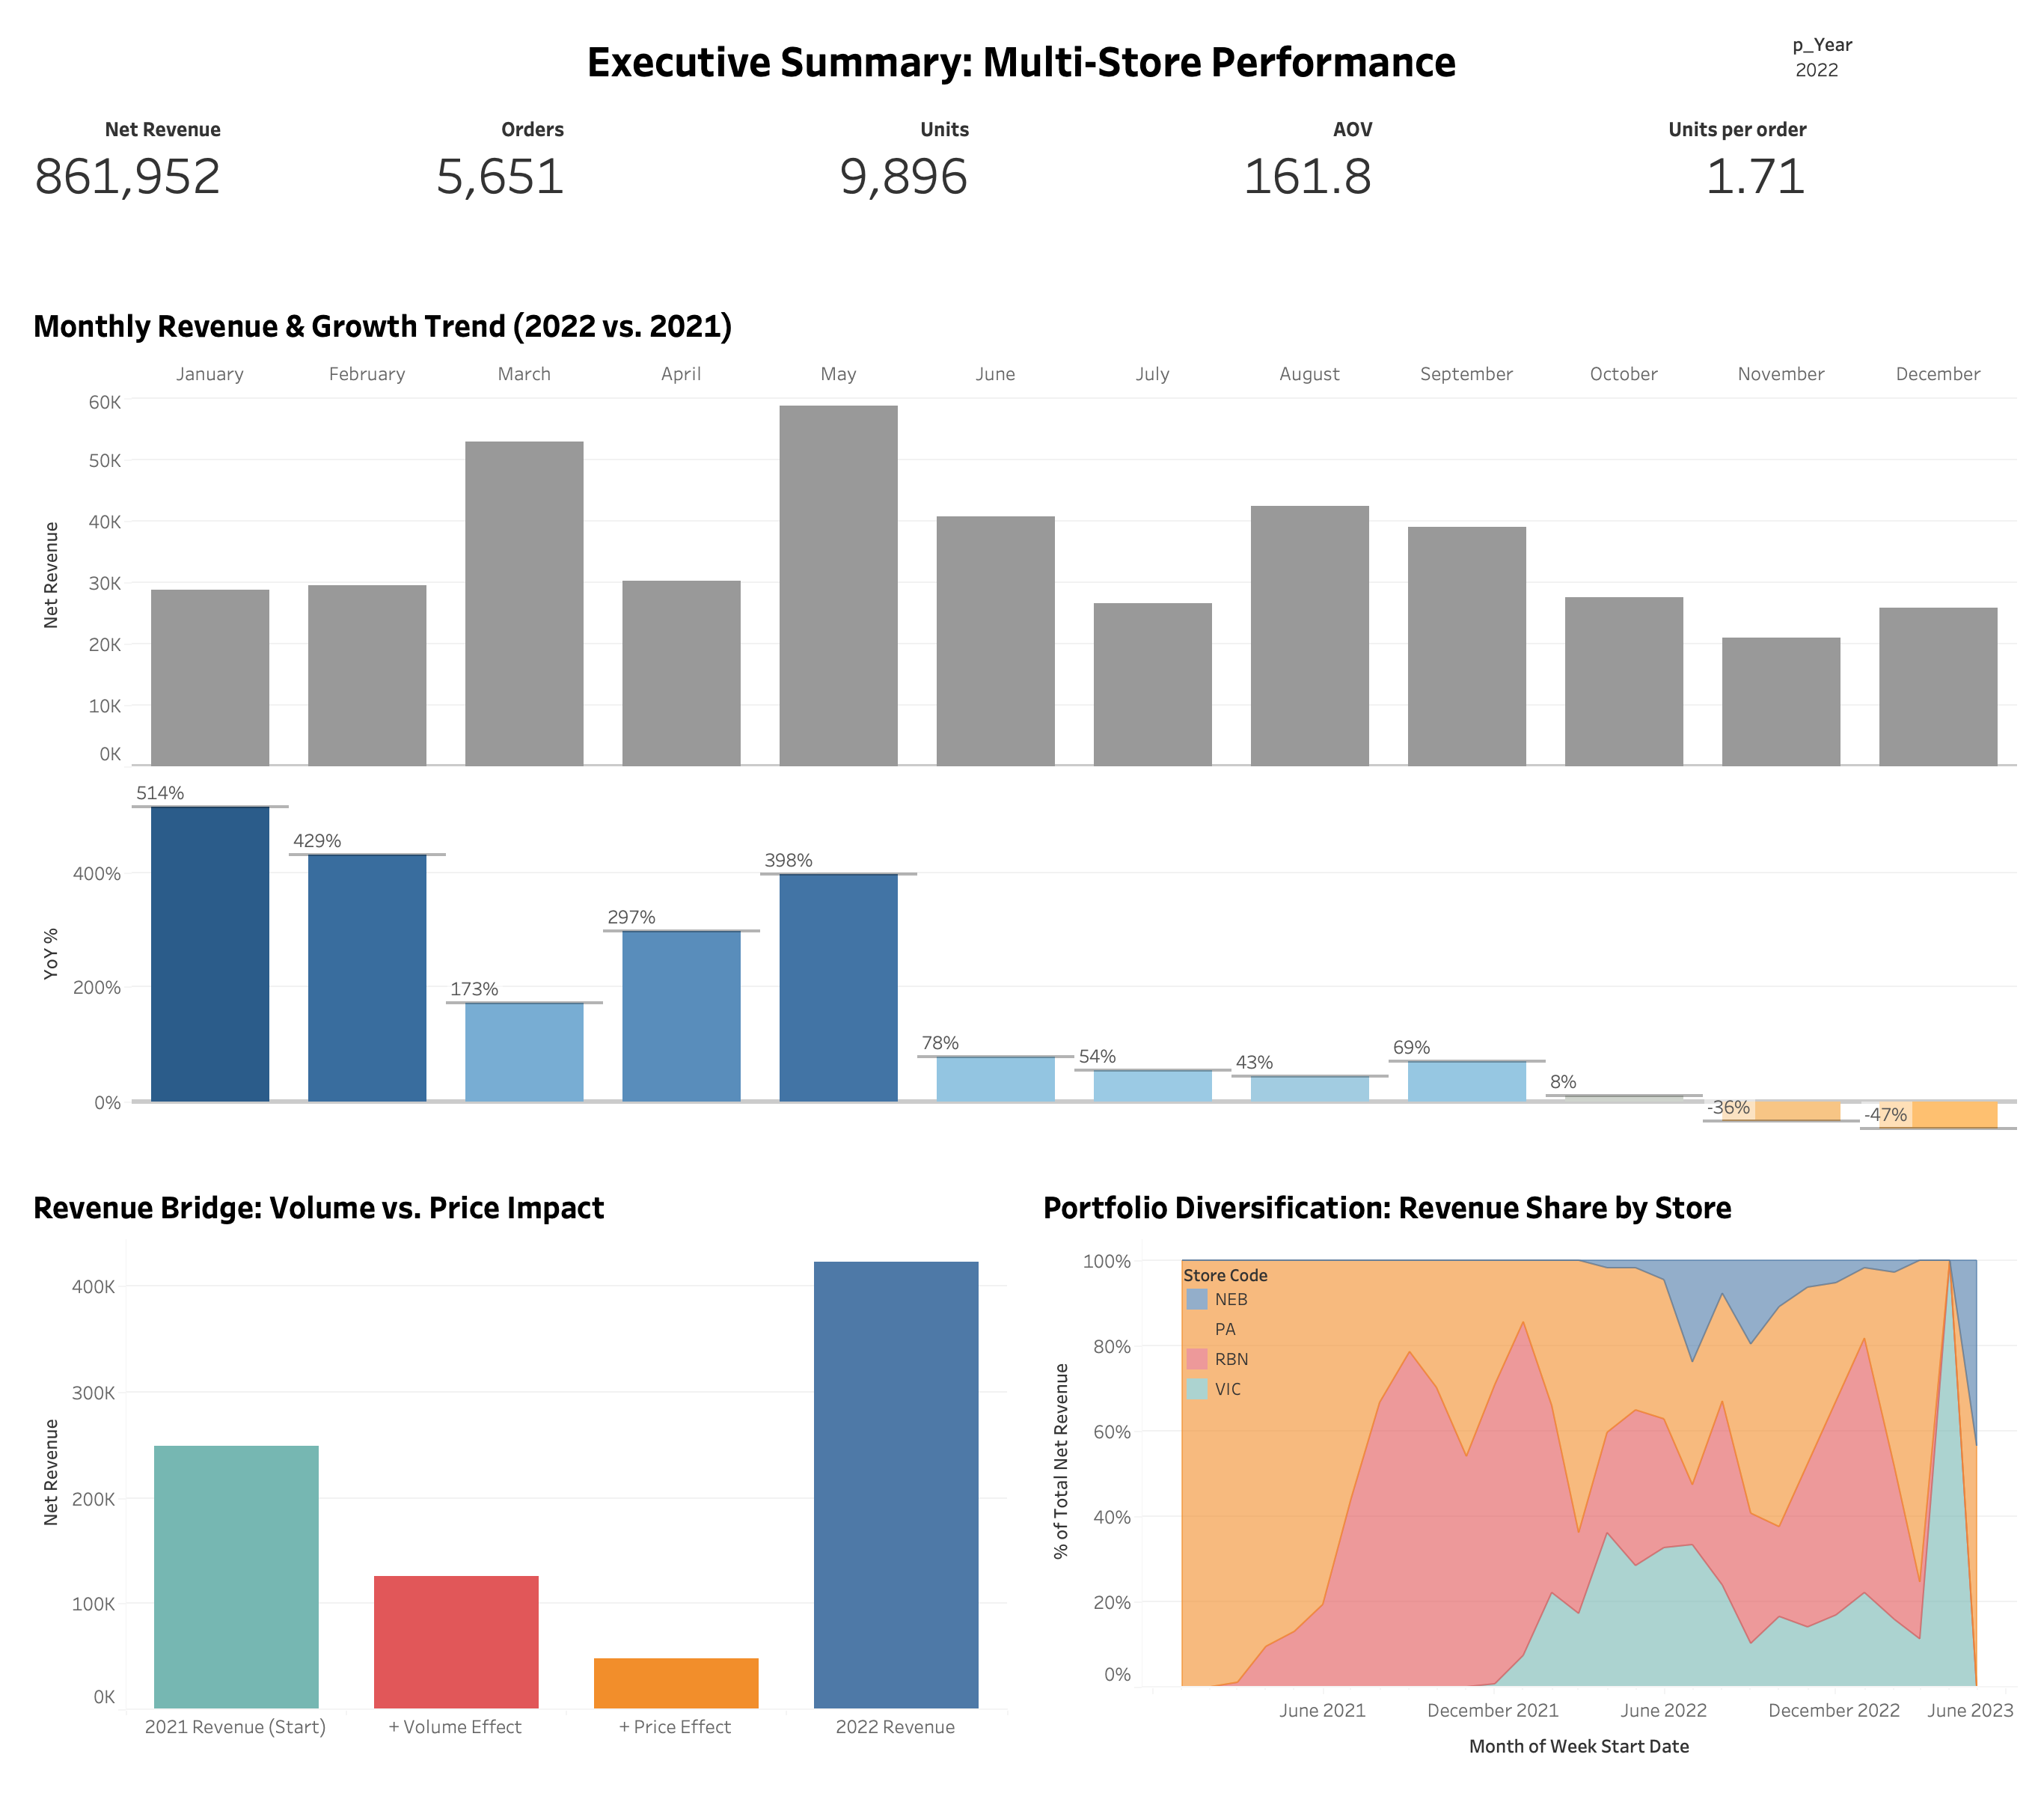

Layout of this report page (visuals, bound fields, positions):
{"tool":"tableau","page":{"name":"Dashboard 1","canvas":[1366,1200],"ordinal":0},"visuals":[{"type":"text","box":[8,8,1350,64.5]},{"type":"parameter","param":"[Parameters].[Parameter 1]","box":[1198,20.3,160,68.7]},{"type":"worksheet","title":"KPI - Net Revenue","mark":"Automatic","box":[8,73,270,114]},{"type":"worksheet","title":"KPI - Orders","mark":"Automatic","box":[278,73,270,114]},{"type":"worksheet","title":"KPI - Units","mark":"Automatic","box":[548,73,270,114]},{"type":"worksheet","title":"KPI - AOV","mark":"Automatic","box":[818,73,270,114]},{"type":"worksheet","title":"KPI - UPO","mark":"Automatic","box":[1088,73,270,114]},{"type":"worksheet","title":"S2B Monthly YoY (pYear)","mark":"Automatic","rows":["Calculation_0079749210488837","Calculation_0079749206110211"],"cols":["Calculation_0027452790370311","year"],"box":[8,187.5,1350,588.5]},{"type":"worksheet","title":"Growth Bridge","mark":"Automatic","box":[8,776,675,416]},{"type":"worksheet","title":"Mix Shift","mark":"Area","cols":["week_start_date"],"box":[683,776,675,416]},{"type":"legend","title":"Mix Shift","param":"[federated.0oe7wu71xu0ax61cpor2t1jkqxlg].[none:store_code:nk]","box":[790,842,140,197]}]}

Visuals, with their boxes in screenshot pixels (x1, y1, x2, y2), scaled from the page's 1366x1200 canvas onto the 2044x1796 screenshot:
text: (12,12,2032,109)
parameter: (1793,31,2032,133)
"KPI - Net Revenue" worksheet: (12,109,416,280)
"KPI - Orders" worksheet: (416,109,820,280)
"KPI - Units" worksheet: (820,109,1224,280)
"KPI - AOV" worksheet: (1224,109,1628,280)
"KPI - UPO" worksheet: (1628,109,2032,280)
"S2B Monthly YoY (pYear)" worksheet: (12,281,2032,1161)
"Growth Bridge" worksheet: (12,1161,1022,1784)
"Mix Shift" worksheet (Area marks): (1022,1161,2032,1784)
"Mix Shift" legend: (1182,1260,1392,1555)
